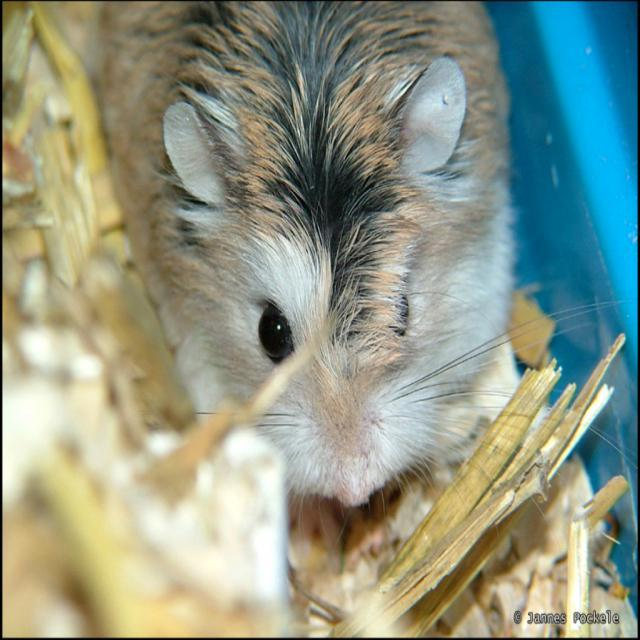rat: (88, 0, 624, 573)
